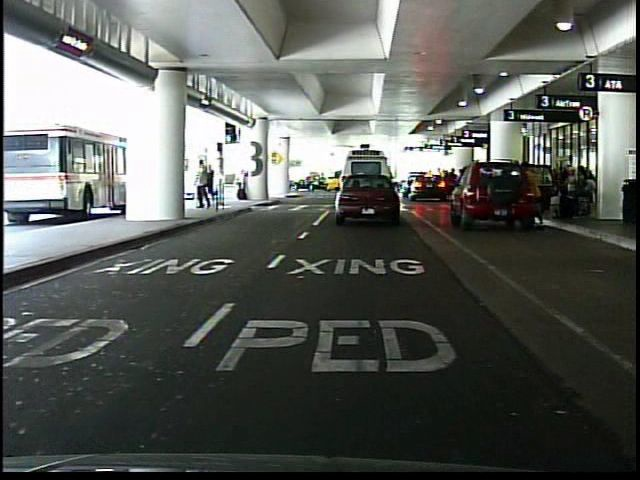person: (193, 158, 212, 215), (233, 165, 252, 203), (206, 163, 218, 212), (532, 159, 533, 223)
